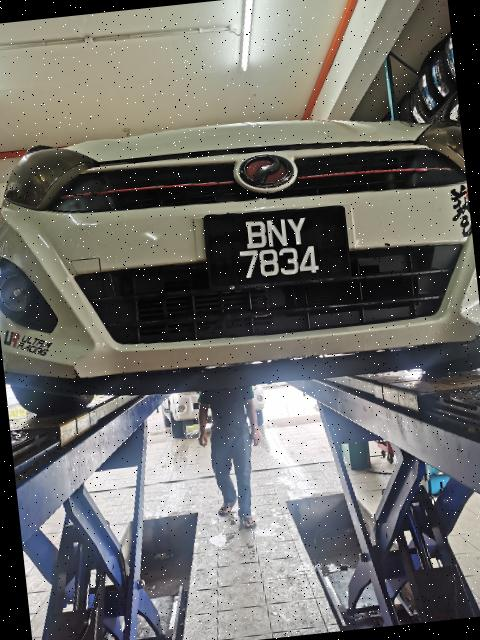License_Plate: (206, 204, 349, 291)
car: (1, 89, 480, 429)
